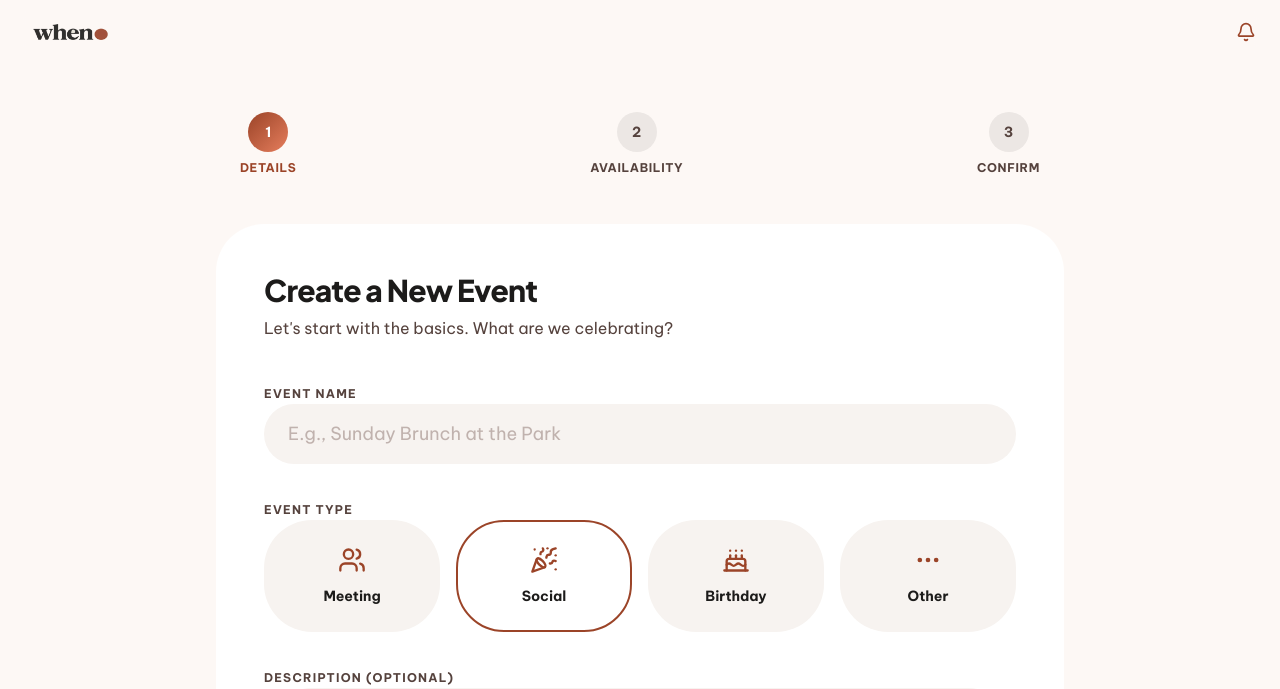
Scenario: NewEventPage — Step 2 defaults › renders start_time input with default 09:00
Type "Test Event" into the field with placeholder "E.g., Sunday Brunch at the Park" at [640, 434], box [264,404,1016,464]
(page scrolled)
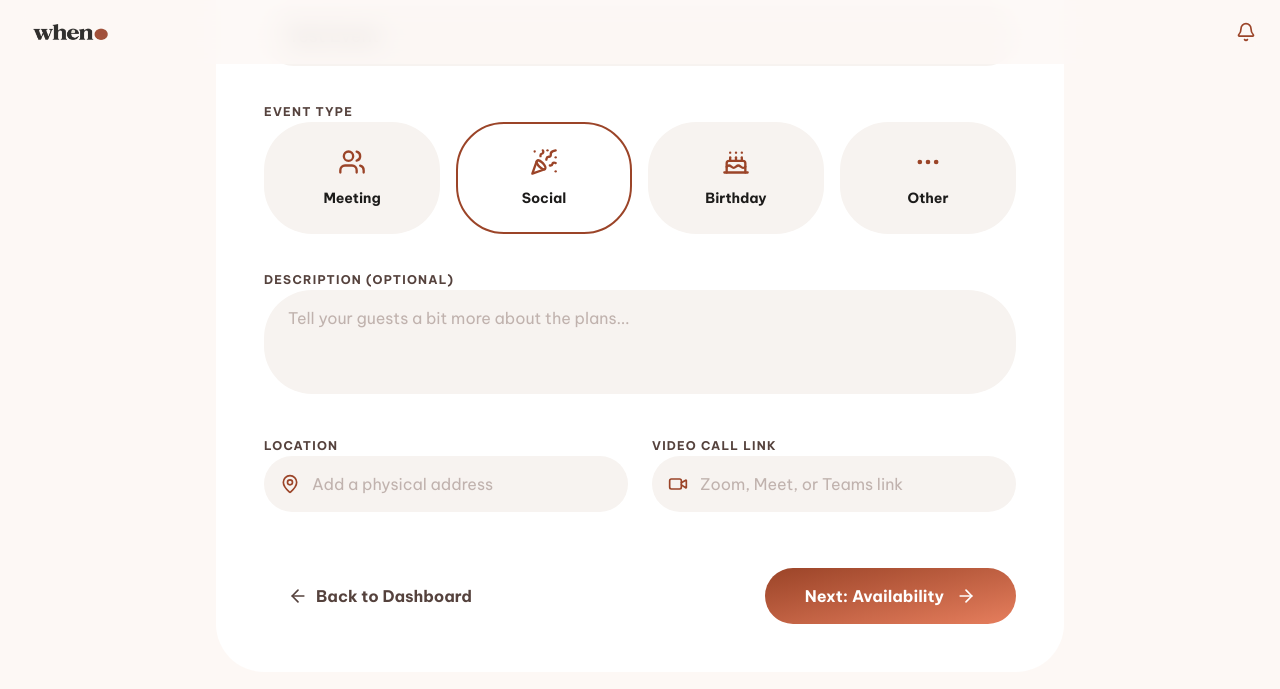
Click the button "Next: Availability" at [890, 596], box [765,568,1016,624]
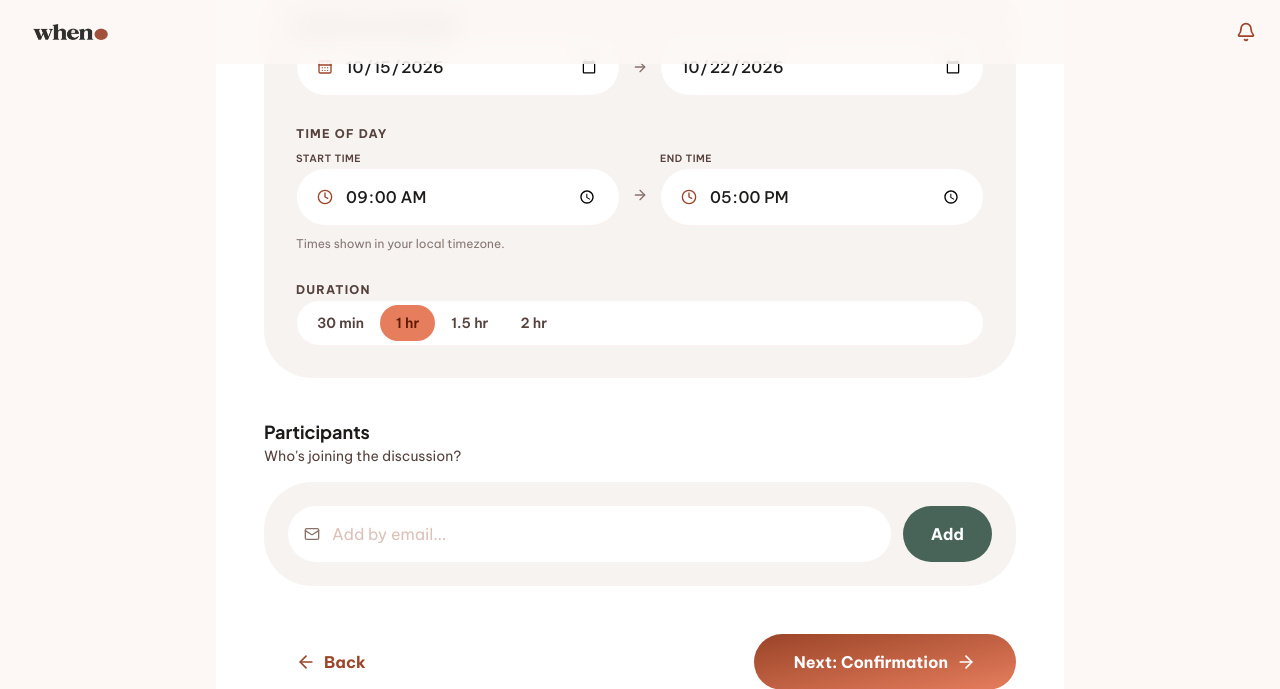
Check: the time field showing "09:00" below "Start Time" is shown, box [345,185,599,209]
